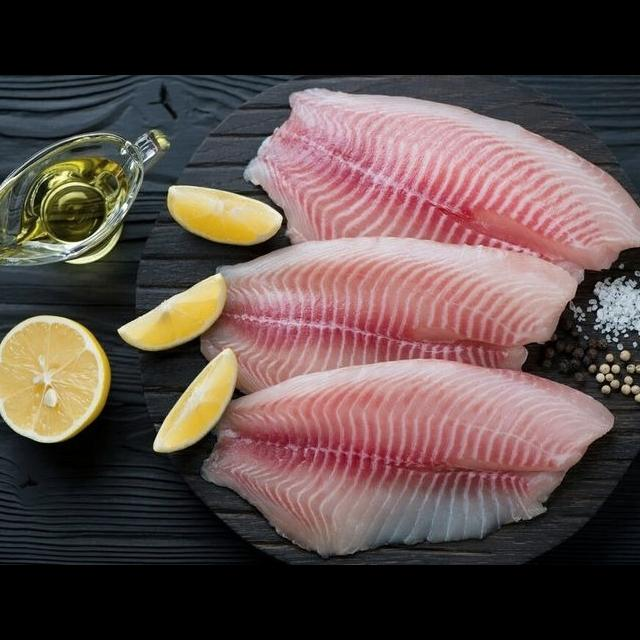fish: (184, 350, 620, 563)
